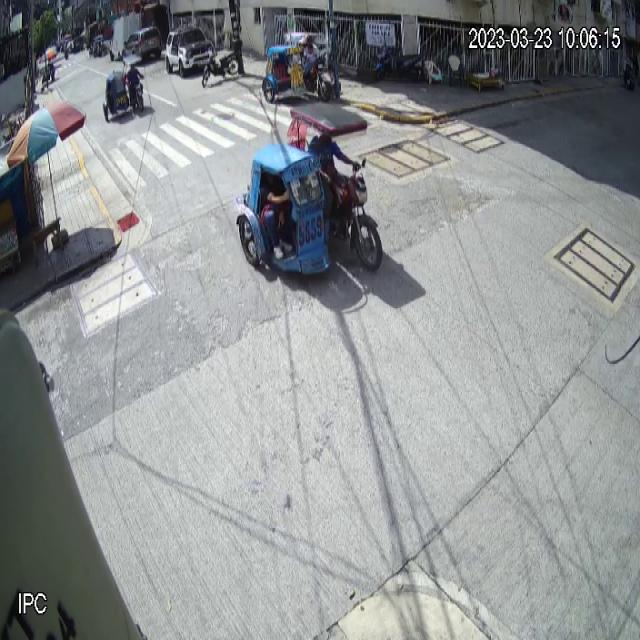Tricycle: (235, 102, 382, 276), (262, 32, 332, 103), (102, 54, 144, 122)
